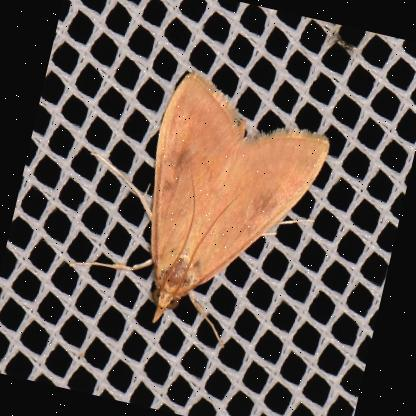Asian Corn Borer Moth: (54, 49, 344, 366)
